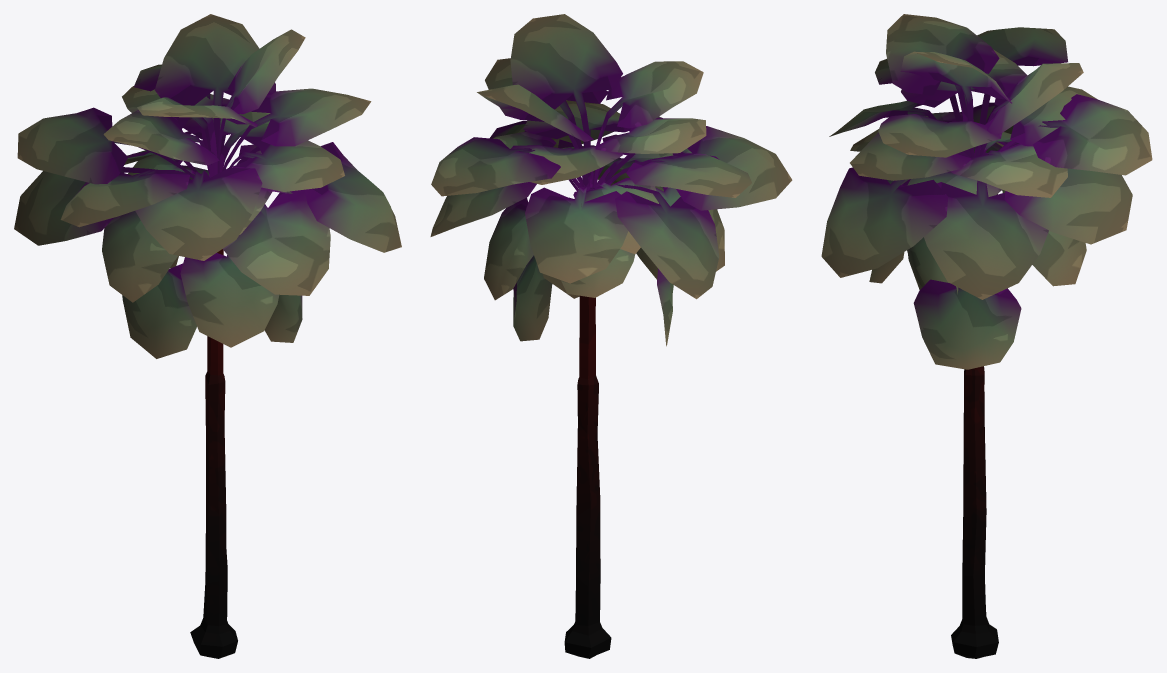
Rendered from SM_Env_Tree_Palm_01.glb.
The picture shows the model from 3 angles, left to right: view 1: azimuth 30°, elevation 25°; view 2: azimuth 150°, elevation 25°; view 3: azimuth 270°, elevation 25°; orthographic projection. The views are drawn at different scales.
Parts seen in each view (by area): view 1: SM_Env_Tree_Palm_01_LOD0; view 2: SM_Env_Tree_Palm_01_LOD0; view 3: SM_Env_Tree_Palm_01_LOD0.
Part boxes in pixels (box(x1,y1,x2,y2)): SM_Env_Tree_Palm_01_LOD0: box(14, 14, 401, 658); SM_Env_Tree_Palm_01_LOD0: box(430, 14, 792, 658); SM_Env_Tree_Palm_01_LOD0: box(821, 14, 1152, 658).
Size of the model in its own units: 7.19 by 13.64 by 6.47.
Materials: 1 (1 with a texture image).
